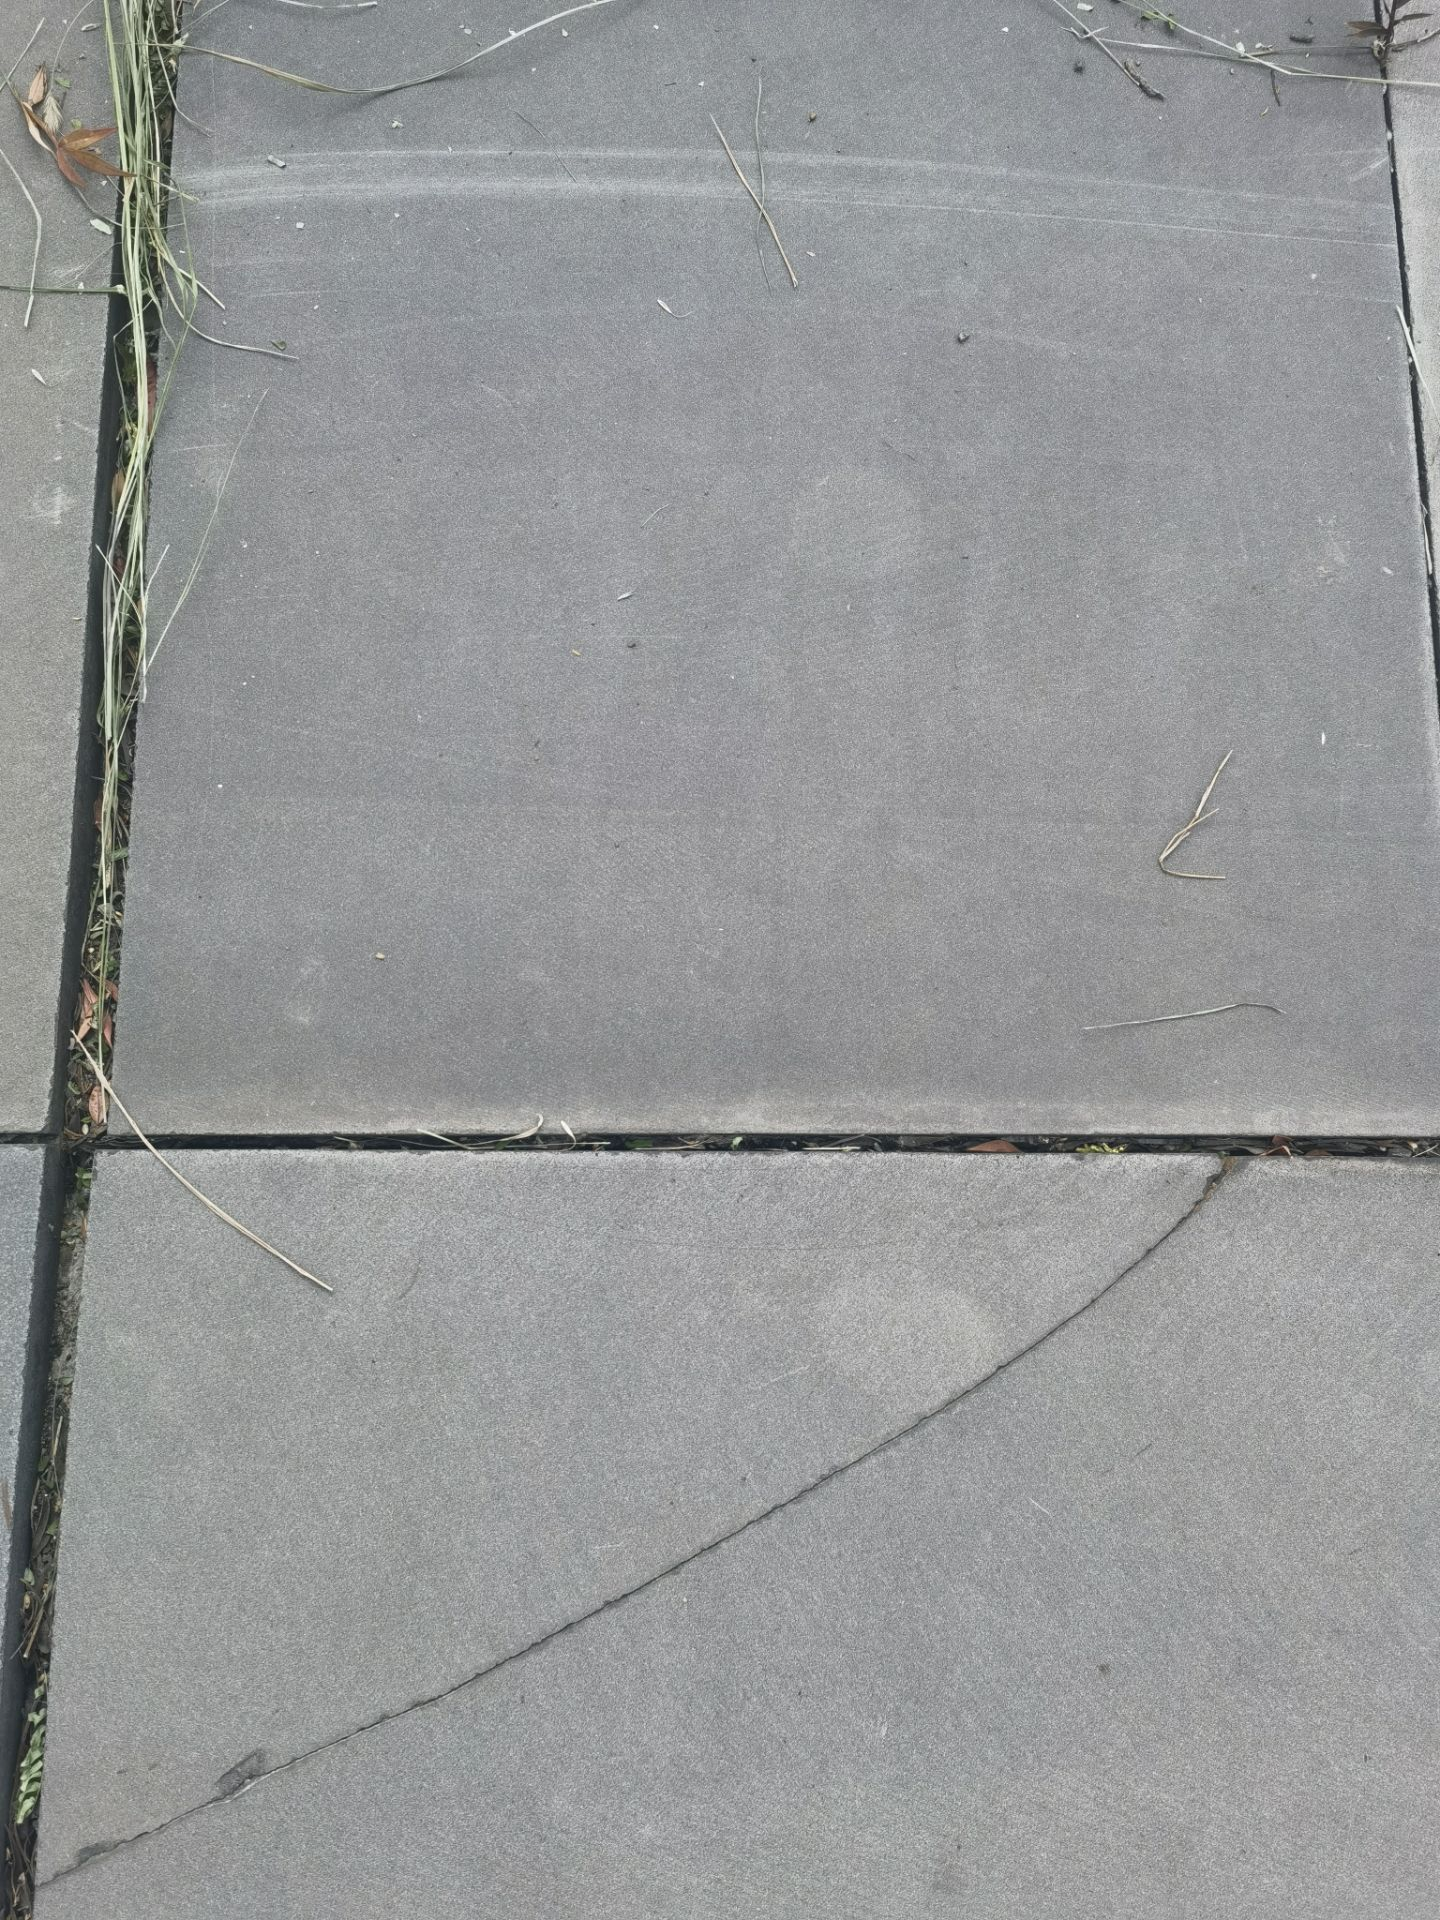TILE: (35, 1147, 1255, 1912)
